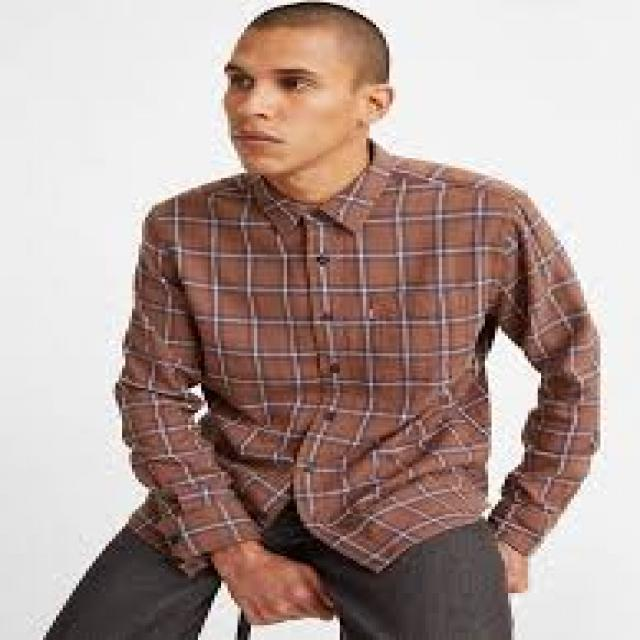plaid: (106, 162, 595, 565)
